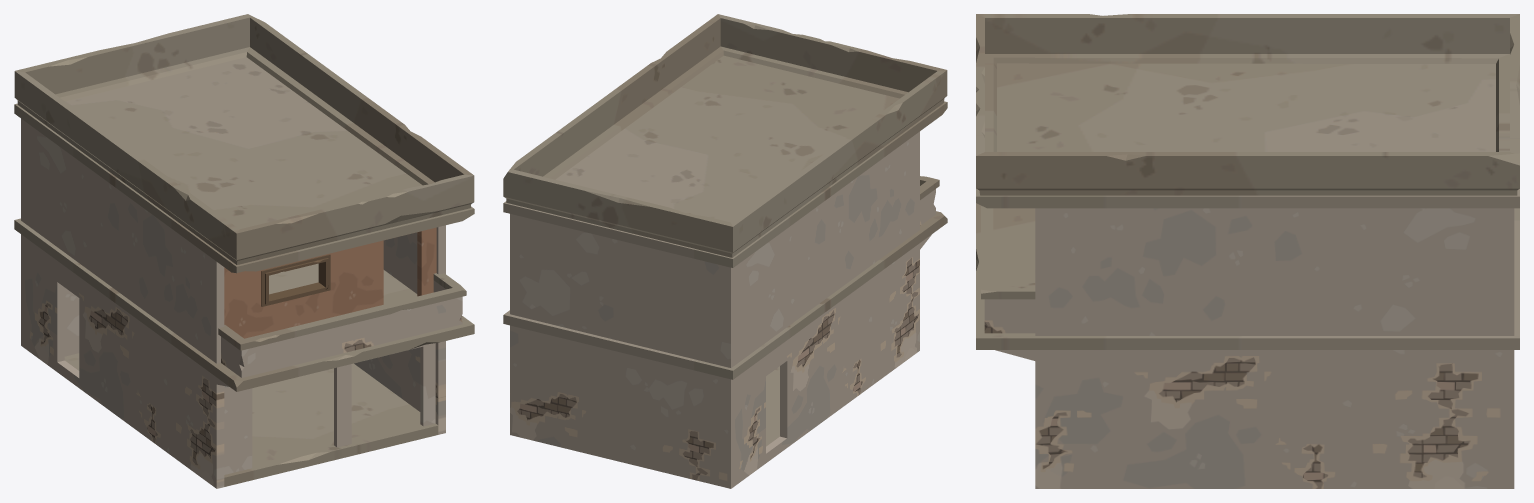
Rendered from SM_Bld_Shop_10.glb.
3 renders of one model, left to right at view 1: azimuth 30°, elevation 25°; view 2: azimuth 150°, elevation 25°; view 3: azimuth 270°, elevation 25°, orthographic. The views are drawn at different scales.
Visible parts, largest first — view 1: SM_Bld_Shop_10; view 2: SM_Bld_Shop_10; view 3: SM_Bld_Shop_10.
Part boxes in pixels (bbox=[...]): SM_Bld_Shop_10: bbox=[14, 14, 474, 488]; SM_Bld_Shop_10: bbox=[503, 14, 947, 488]; SM_Bld_Shop_10: bbox=[976, 14, 1519, 488].
Bounding box in the file's own units: 7.02 × 7.73 × 11.36.
1 material, 1 textured.
